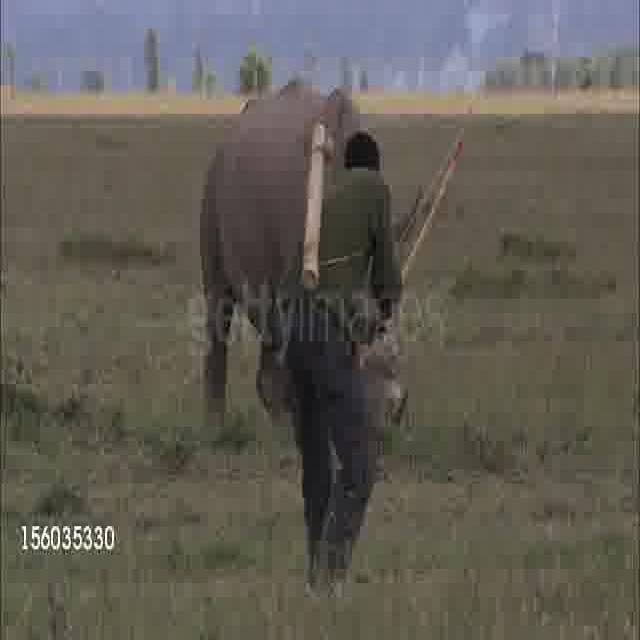poacher: (256, 210, 411, 580)
weapon: (224, 211, 306, 313)
